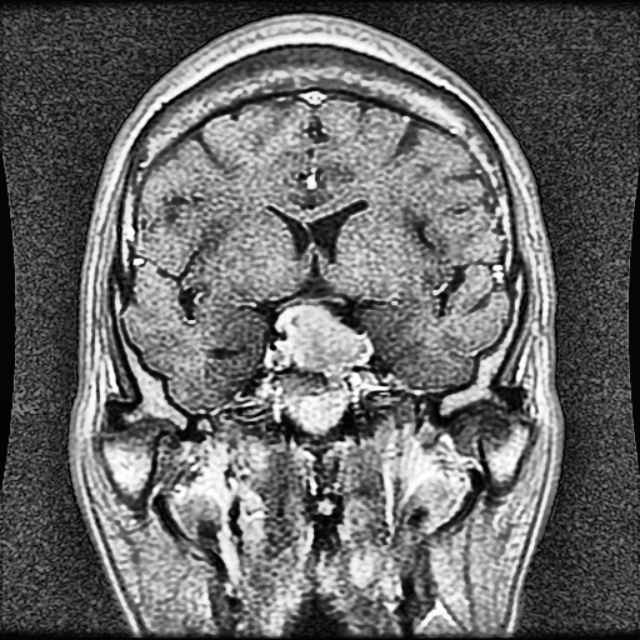Pituitary: (283, 309, 369, 378)
